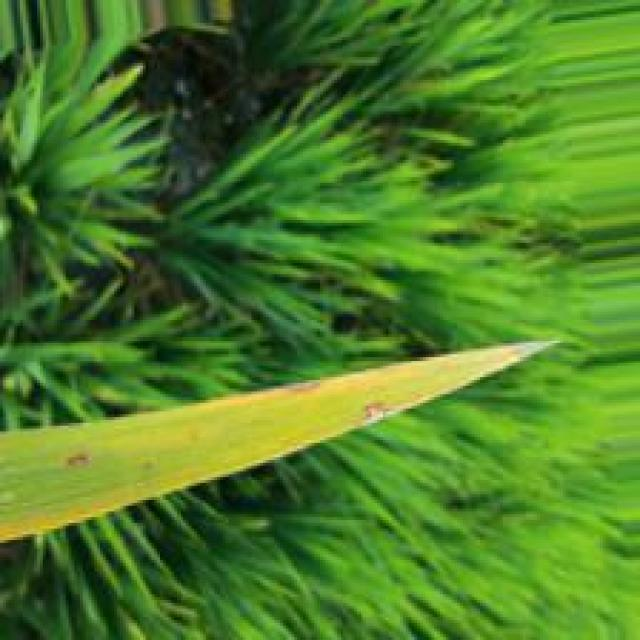Brown_Spot: (362, 395, 397, 426), (281, 379, 331, 397), (62, 452, 96, 468)
